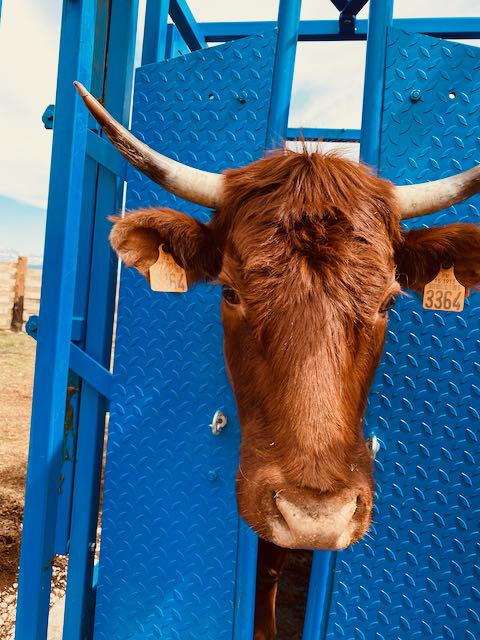muzzles: (230, 477, 374, 557)
